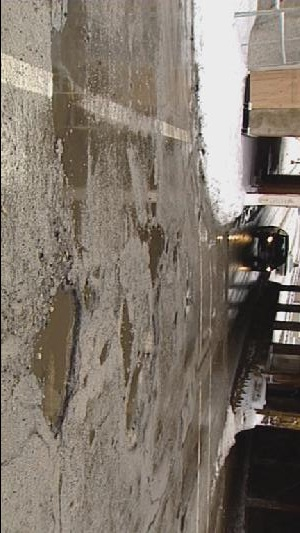pothole: (28, 275, 83, 438), (47, 0, 92, 194), (121, 353, 149, 453), (145, 221, 169, 288), (118, 295, 135, 384)
